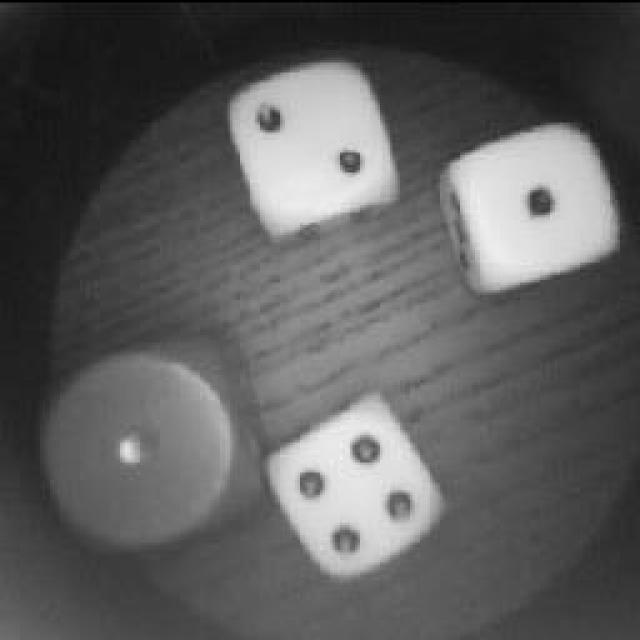dice_1: (30, 338, 265, 548), (440, 118, 628, 302)
dice_2: (222, 50, 410, 238)
dice_4: (258, 398, 448, 578)
